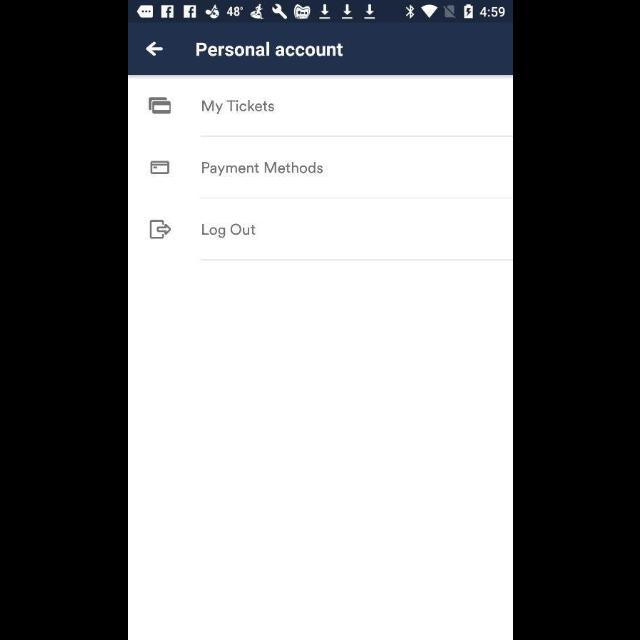icon: (149, 220, 171, 240), (148, 98, 170, 114), (150, 161, 170, 175), (145, 43, 163, 57)
text: (195, 44, 342, 58), (202, 162, 322, 176), (202, 100, 274, 116), (201, 222, 255, 238)
toolbar: (128, 24, 512, 76)
uppertaskbar: (128, 1, 512, 23)
